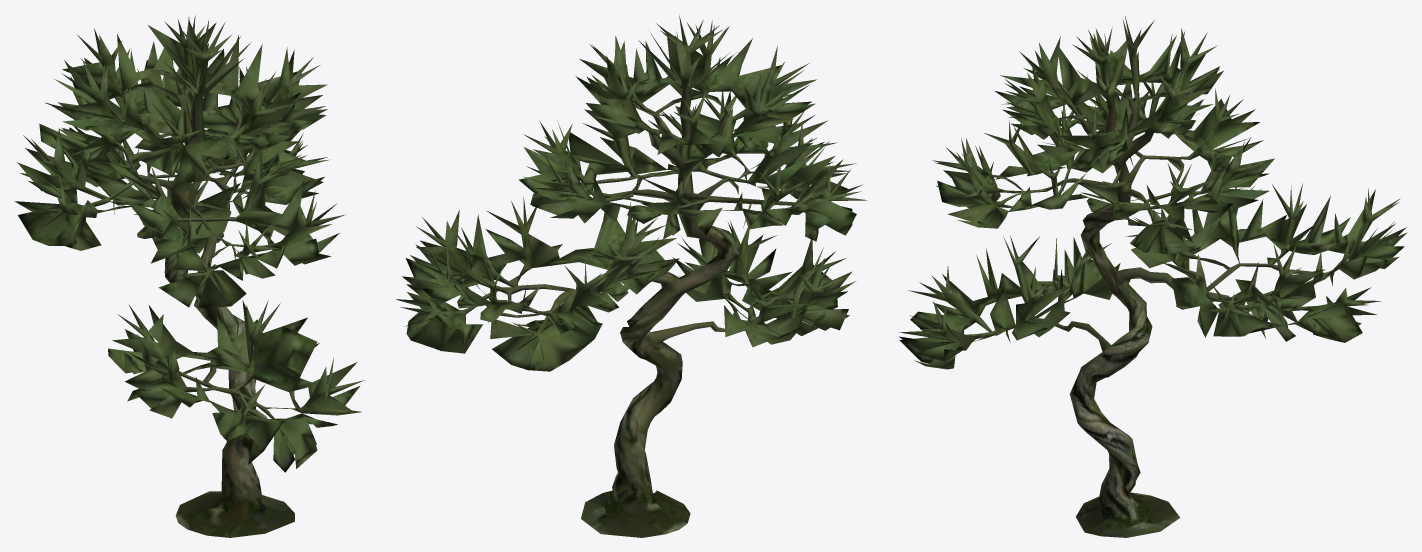
Rendered from ZaoXingHeiSong.glb.
3 views of the same model, side by side, from view 1: azimuth 30°, elevation 25°; view 2: azimuth 150°, elevation 25°; view 3: azimuth 270°, elevation 25° (orthographic). The views are drawn at different scales.
Parts seen in each view (by area): view 1: tripo_node_be4c1f4e-653c-41e2-82a6-1efe2463f6aa; view 2: tripo_node_be4c1f4e-653c-41e2-82a6-1efe2463f6aa; view 3: tripo_node_be4c1f4e-653c-41e2-82a6-1efe2463f6aa.
Boxes of the visible parts, bbox=[...] form: tripo_node_be4c1f4e-653c-41e2-82a6-1efe2463f6aa: bbox=[14, 15, 364, 537]; tripo_node_be4c1f4e-653c-41e2-82a6-1efe2463f6aa: bbox=[396, 14, 867, 537]; tripo_node_be4c1f4e-653c-41e2-82a6-1efe2463f6aa: bbox=[899, 16, 1407, 537].
Bounding box in the file's own units: 0.7637 × 0.998 × 0.998.
Materials: 1 (1 with a texture image).
